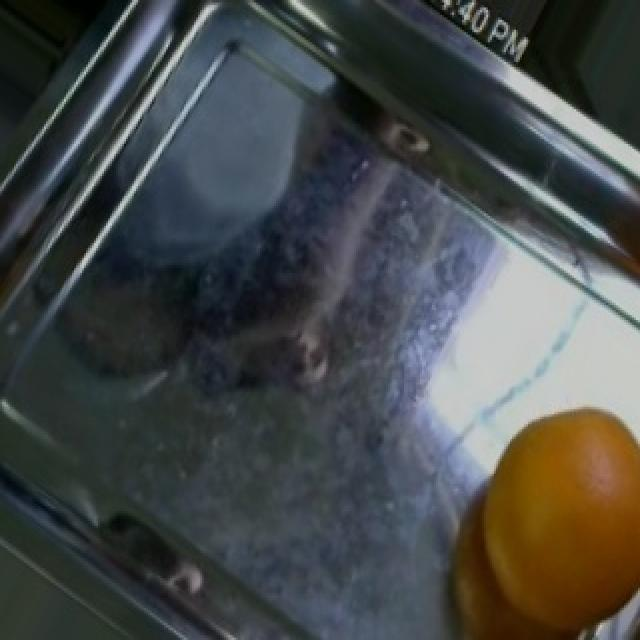Fruit: (432, 387, 640, 640)
